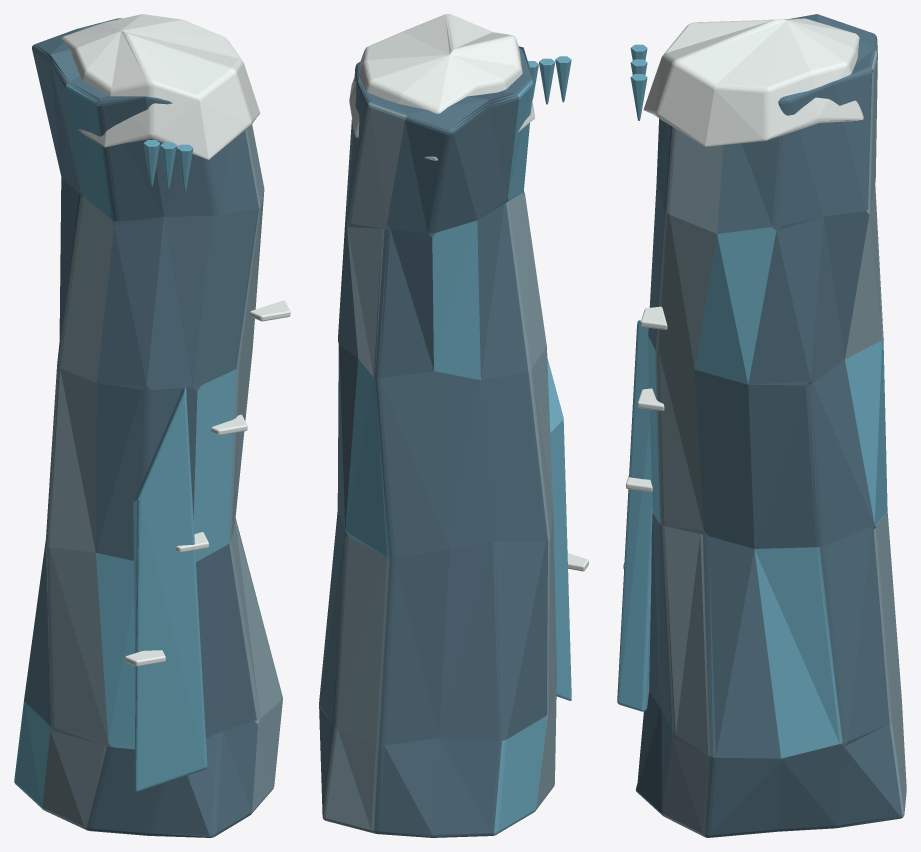
The model's file is CliffNeedle.fbx.
3 views of the same model, side by side, from view 1: azimuth 30°, elevation 25°; view 2: azimuth 150°, elevation 25°; view 3: azimuth 270°, elevation 25° (orthographic). The views are drawn at different scales.
Parts seen in each view (by area): view 1: GFC2_CliffNeedle_Rock, GFC2_CliffNeedle_IceFracture, GFC2_CliffNeedle_SnowCap, GFC2_CliffNeedle; view 2: GFC2_CliffNeedle_Rock, GFC2_CliffNeedle_SnowCap, GFC2_CliffNeedle_IceFracture, GFC2_CliffNeedle; view 3: GFC2_CliffNeedle_Rock, GFC2_CliffNeedle_SnowCap, GFC2_CliffNeedle_IceFracture, GFC2_CliffNeedle.
Boxes of the visible parts, x1=… form: GFC2_CliffNeedle_Rock: x1=14, y1=18, x2=282, y2=837; GFC2_CliffNeedle_IceFracture: x1=133, y1=388, x2=207, y2=791; GFC2_CliffNeedle_SnowCap: x1=61, y1=14, x2=260, y2=159; GFC2_CliffNeedle: x1=125, y1=140, x2=290, y2=666; GFC2_CliffNeedle_Rock: x1=319, y1=46, x2=556, y2=837; GFC2_CliffNeedle_SnowCap: x1=349, y1=14, x2=534, y2=160; GFC2_CliffNeedle_IceFracture: x1=547, y1=358, x2=571, y2=700; GFC2_CliffNeedle: x1=528, y1=56, x2=588, y2=571; GFC2_CliffNeedle_Rock: x1=636, y1=14, x2=906, y2=837; GFC2_CliffNeedle_SnowCap: x1=643, y1=18, x2=863, y2=146; GFC2_CliffNeedle_IceFracture: x1=617, y1=320, x2=652, y2=711; GFC2_CliffNeedle: x1=623, y1=44, x2=667, y2=568.
Bounding box in the file's own units: 2.81 × 9.56 × 3.28.
